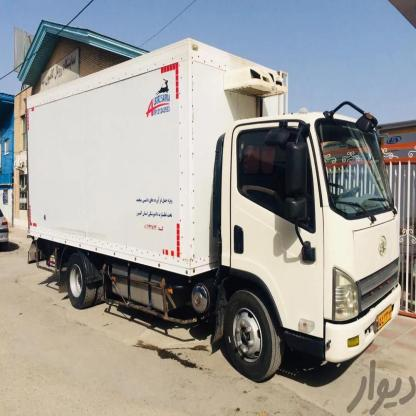Car: (0, 205, 15, 248)
Truck: (22, 58, 386, 372)
